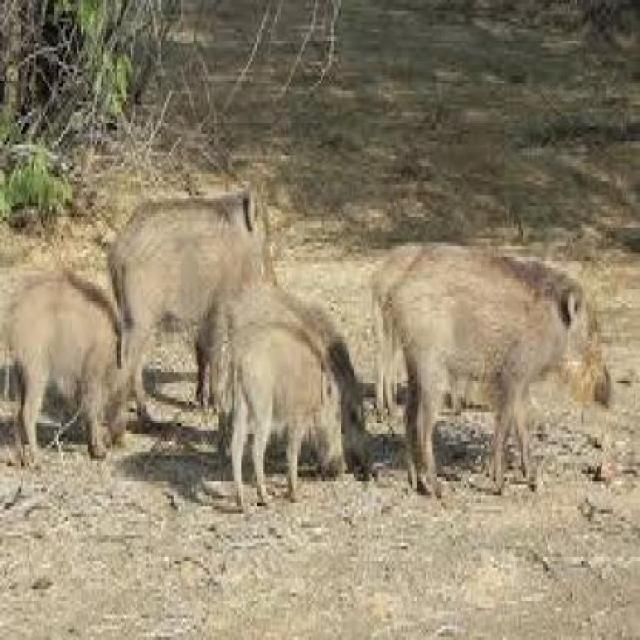wildboar: (363, 238, 619, 496), (105, 178, 284, 451), (187, 262, 376, 489), (0, 252, 155, 473), (214, 312, 351, 513)
